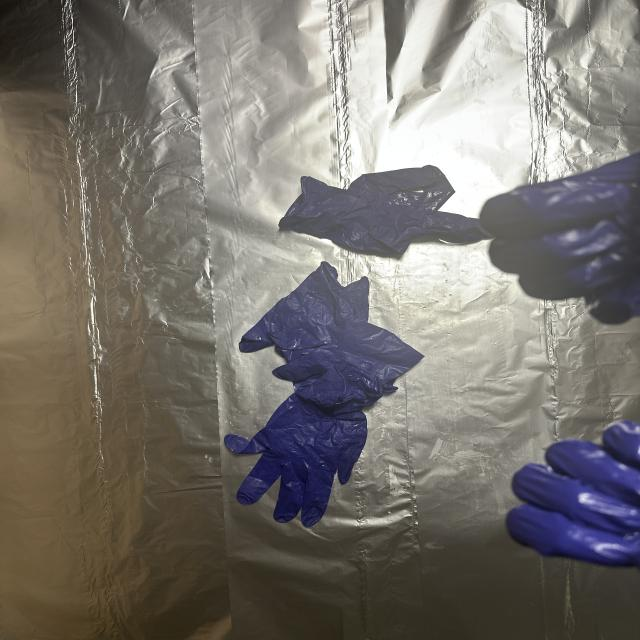gloves_contaminated: (480, 153, 640, 324), (506, 421, 640, 567)
